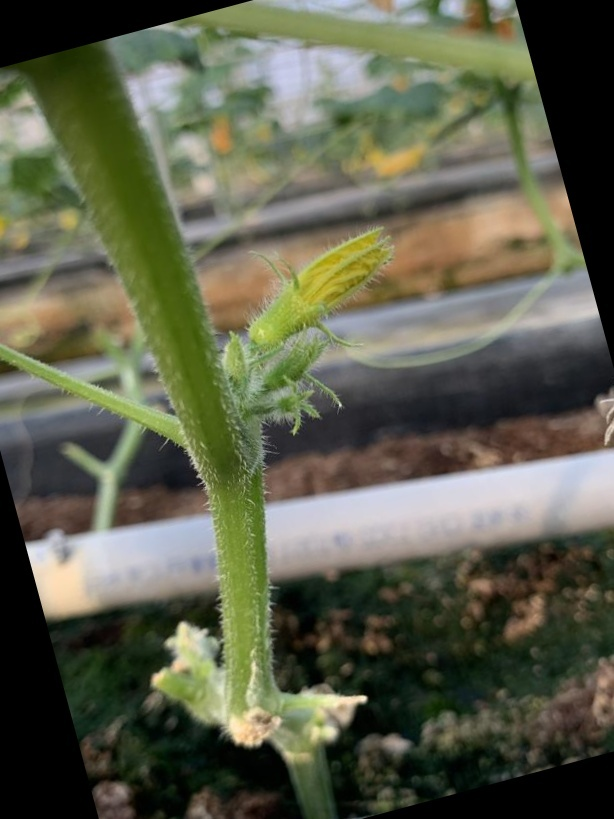bud: (236, 222, 401, 357)
